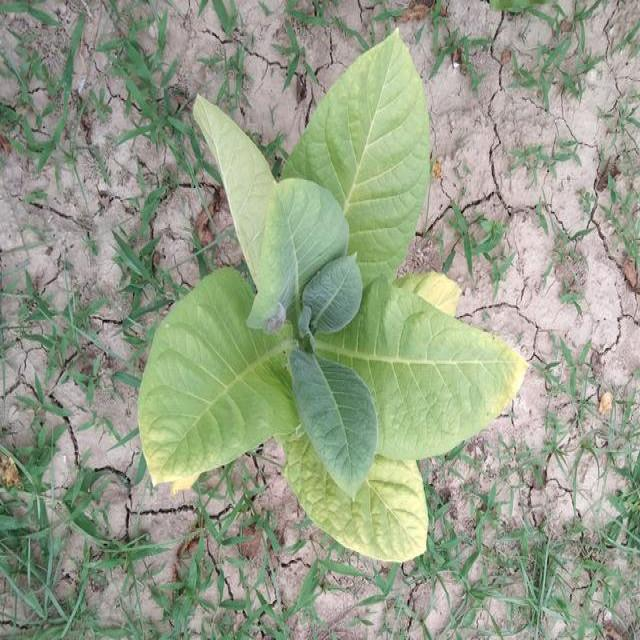crop: (134, 26, 532, 565)
